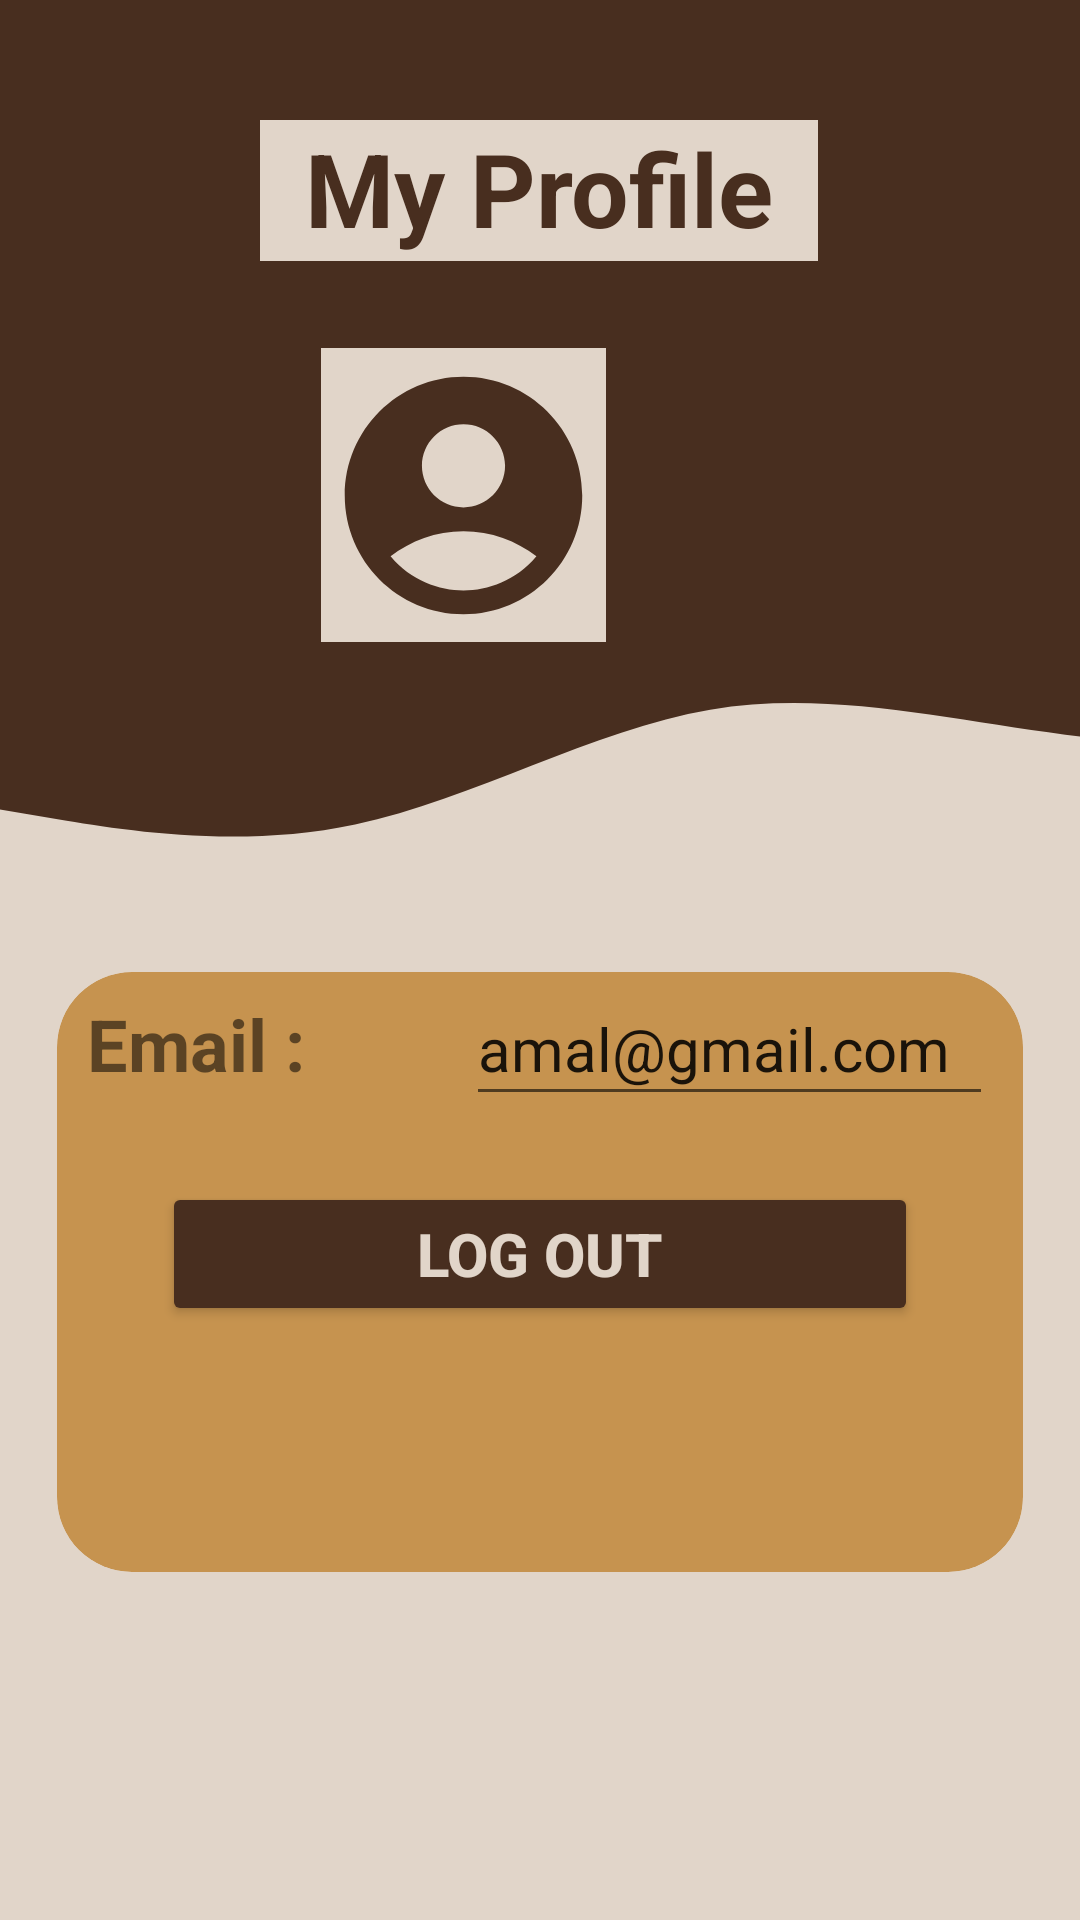

Named icons in this screenshot (1080*1920) and their bounding boxes, (x1, y1, x2, y2):
account circle: (321, 348, 606, 642)
